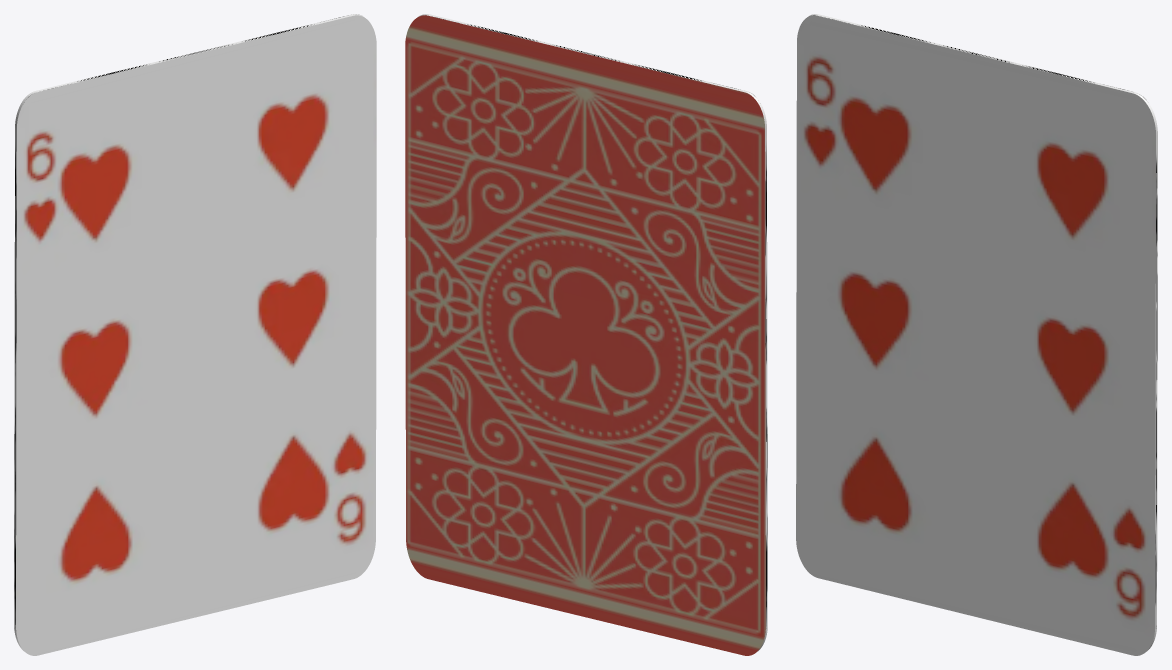
The model's file is 6corazones.glb.
3 renders of one model, left to right at view 1: azimuth 30°, elevation 25°; view 2: azimuth 150°, elevation 25°; view 3: azimuth 330°, elevation 25°, orthographic.
Parts seen in each view (by area): view 1: Cubo.038; view 2: Cubo.038; view 3: Cubo.038.
Boxes of the visible parts, x1,y1,x2,y2 form: Cubo.038: (14, 14, 376, 655); Cubo.038: (405, 14, 767, 655); Cubo.038: (796, 14, 1157, 655).
Bounding box in the file's own units: 7.36 × 11 × 0.065.
3 materials, 3 textured.
